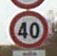limite 40: (7, 8, 48, 49)
